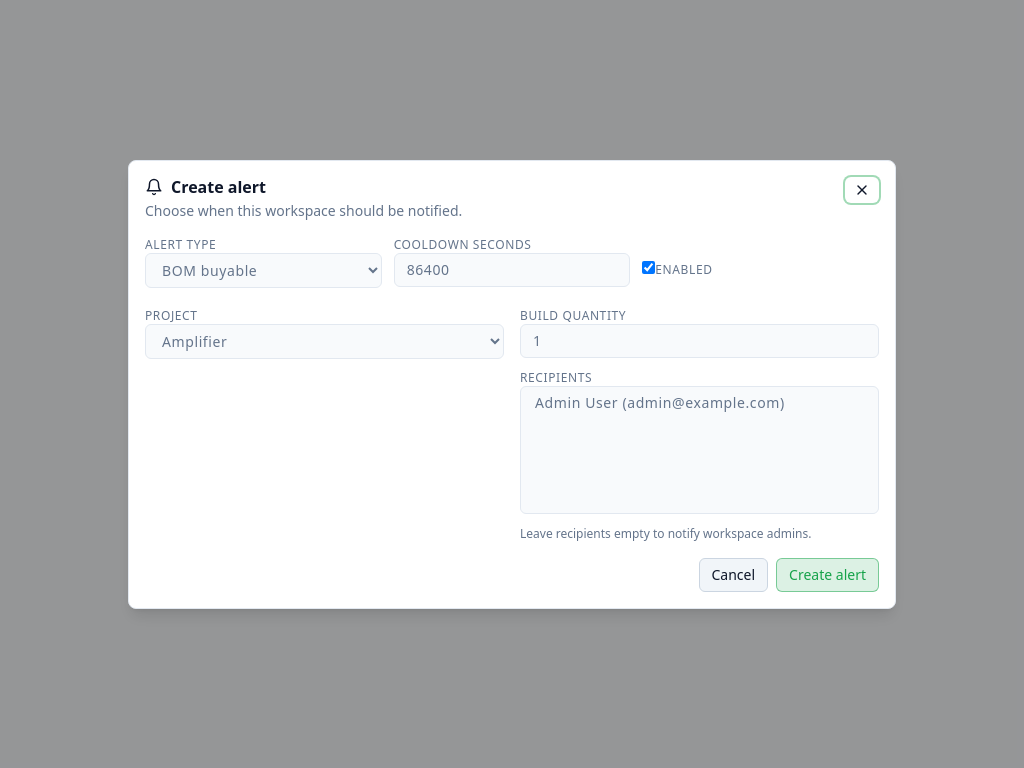
Test case: AlertFormModal › cooldown < 60 surfaces validation error
Expected: the dropdown labelled "Project" is shown, [145, 324, 504, 358]
Replace the text in the number field labelled "Cooldown seconds" with "59". click: (512, 270)
box: [394, 252, 630, 286]
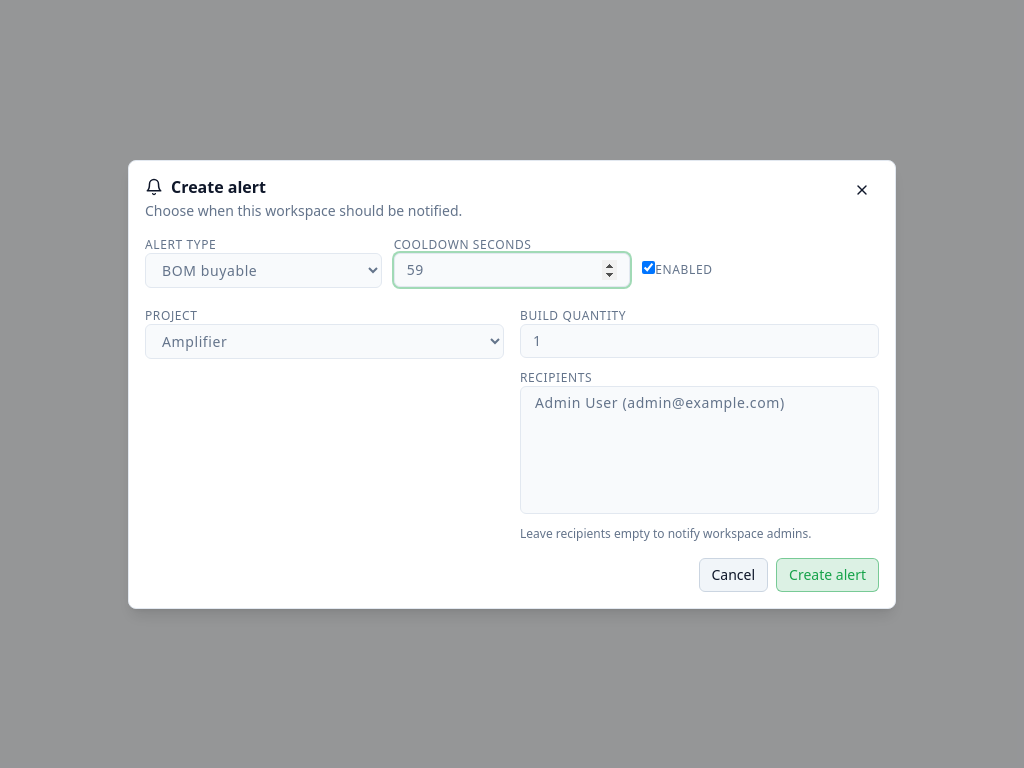
Click the button "Create alert". click: click(828, 574)
box: [776, 558, 879, 592]
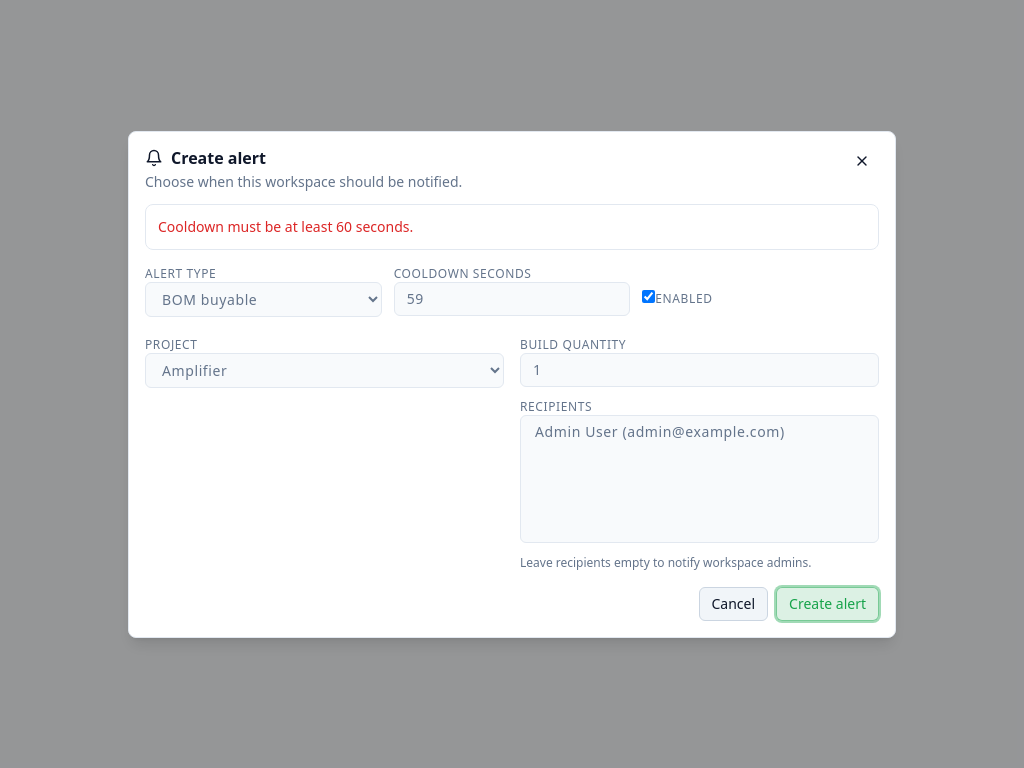
Now the message reads "Cooldown must be at least 60 seconds.", box [158, 216, 413, 236]
